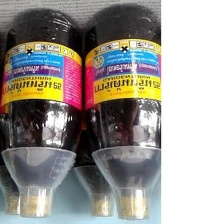insecticide: (0, 4, 88, 222), (81, 2, 166, 221), (69, 56, 134, 219), (0, 43, 54, 217)
